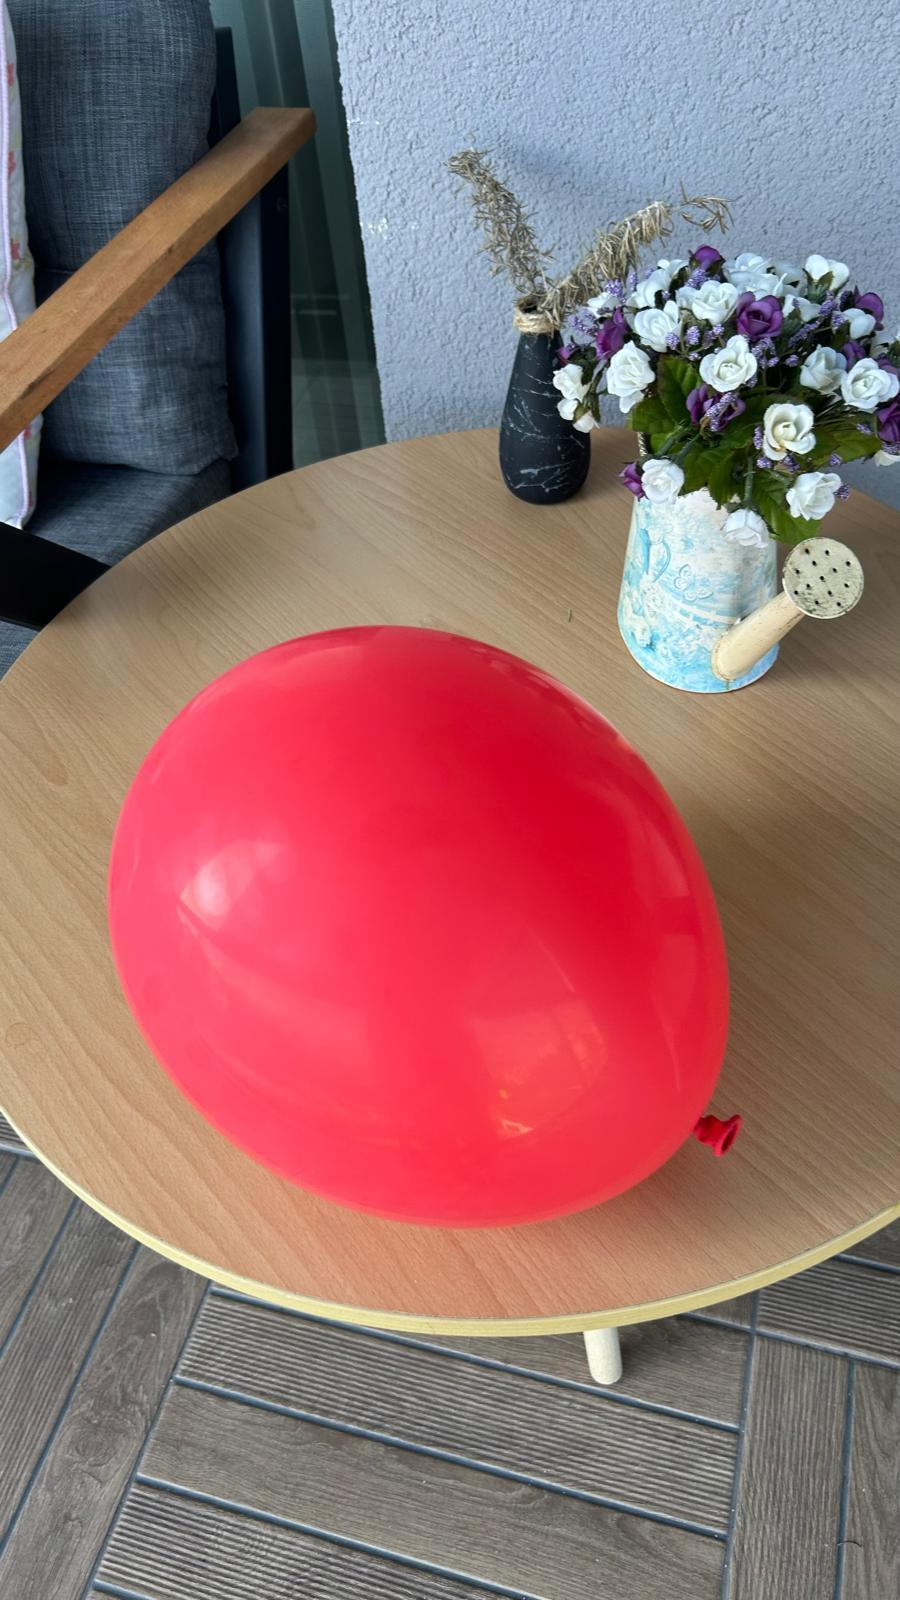red: (108, 627, 741, 1220)
